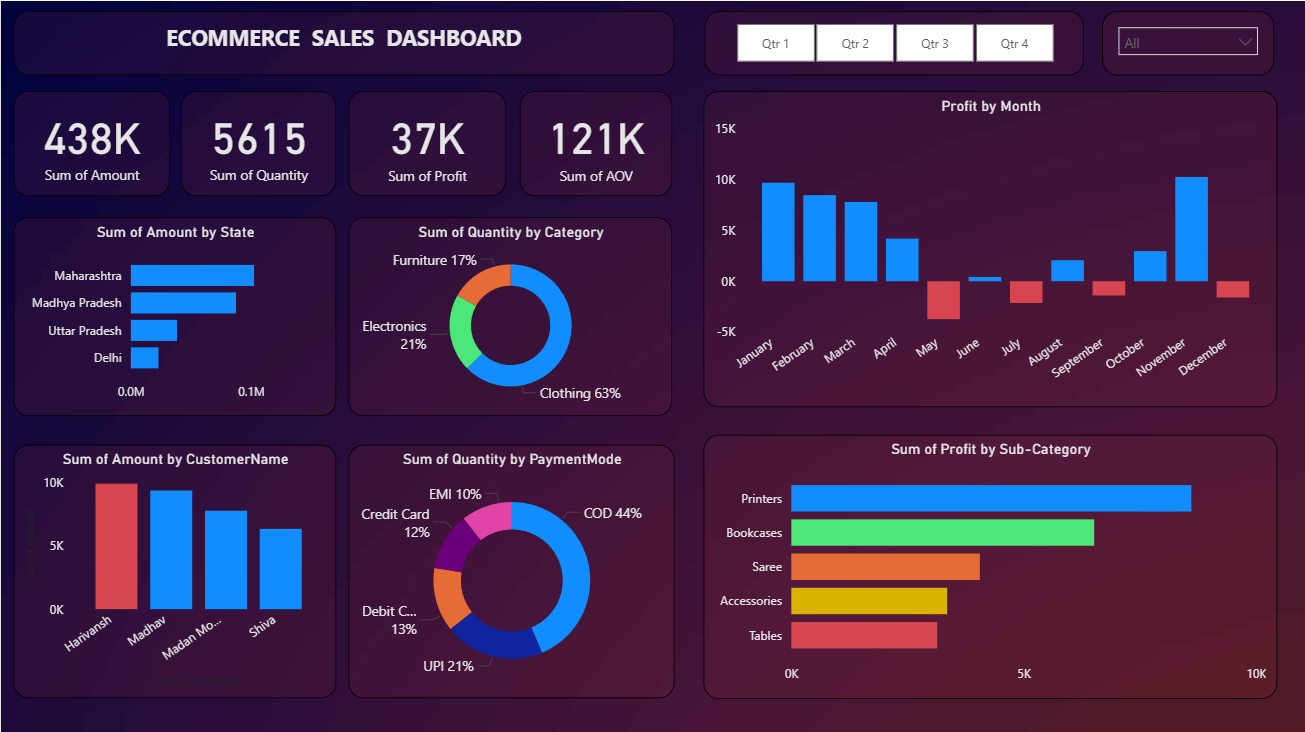

The dashboard page shown, as its layout file describes it:
{"tool":"powerbi","page":{"name":"Page 1","canvas":[1280,720],"ordinal":0},"visuals":[{"type":"textbox","box":[12.3,9.6,649.1,63.1],"z":0},{"type":"columnChart","title":"Profit by Month","fields":{"Category":["Orders (1).Order Date.Variation.Date Hierarchy.Month"],"Y":["Details (1).Profit"]},"box":[689.6,88.3,563.2,310.4],"z":1000},{"type":"barChart","fields":{"Category":["Details (1).Sub-Category"],"Y":["Details (1).Profit"]},"box":[689.6,425.8,563.2,258.9],"z":2000},{"type":"donutChart","fields":{"Category":["Details (1).Category"],"Y":["Details (1).Quantity"]},"box":[341.1,212.3,317.8,195.1],"z":3000},{"type":"donutChart","fields":{"Category":["Details (1).PaymentMode"],"Y":["Details (1).Quantity"]},"box":[341.1,435.6,320.2,249.1],"z":4000},{"type":"card","fields":{"Values":["Details (1).Amount"]},"box":[12.3,87.8,153.7,102.9],"z":5000},{"type":"card","fields":{"Values":["Details (1).Quantity"]},"box":[177,87.8,152.3,102.9],"z":6000},{"type":"card","fields":{"Values":["Details (1).Profit"]},"box":[341.1,88.3,154.6,103.1],"z":7000},{"type":"card","fields":{"Values":["Details (1).AOV"]},"box":[509.2,88.3,149.7,103.1],"z":8000},{"type":"barChart","fields":{"Y":["Details (1).Amount"],"Category":["Orders (1).State"]},"box":[12.3,212.7,317,194.9],"z":9000},{"type":"columnChart","fields":{"Category":["Orders (1).CustomerName"],"Y":["Details (1).Amount"]},"box":[12,436,317,249],"z":10000},{"type":"slicer","fields":{"Values":["Orders (1).Order Date.Variation.Date Hierarchy.Quarter"]},"box":[690.2,9.6,371.9,63.1],"z":11000},{"type":"slicer","fields":{"Values":["Orders (1).State"]},"box":[1081.3,9.6,168.8,63.1],"z":12000}]}

Visuals, with their boxes in screenshot pixels (x1, y1, x2, y2), scaled from the page's 1280x720 canvas onto the 1305x732 screenshot:
textbox: <bbox>13, 10, 674, 74</bbox>
"Profit by Month" columnChart: <bbox>703, 90, 1277, 405</bbox>
barChart - Details (1).Sub-Category x Details (1).Profit: <bbox>703, 433, 1277, 696</bbox>
donutChart - Details (1).Category x Details (1).Quantity: <bbox>348, 216, 672, 414</bbox>
donutChart - Details (1).PaymentMode x Details (1).Quantity: <bbox>348, 443, 674, 696</bbox>
card - Details (1).Amount: <bbox>13, 89, 169, 194</bbox>
card - Details (1).Quantity: <bbox>180, 89, 336, 194</bbox>
card - Details (1).Profit: <bbox>348, 90, 505, 195</bbox>
card - Details (1).AOV: <bbox>519, 90, 672, 195</bbox>
barChart - Details (1).Amount x Orders (1).State: <bbox>13, 216, 336, 414</bbox>
columnChart - Orders (1).CustomerName x Details (1).Amount: <bbox>12, 443, 335, 696</bbox>
slicer - Orders (1).Order Date.Variation.Date Hierarchy.Quarter: <bbox>704, 10, 1083, 74</bbox>
slicer - Orders (1).State: <bbox>1102, 10, 1275, 74</bbox>
